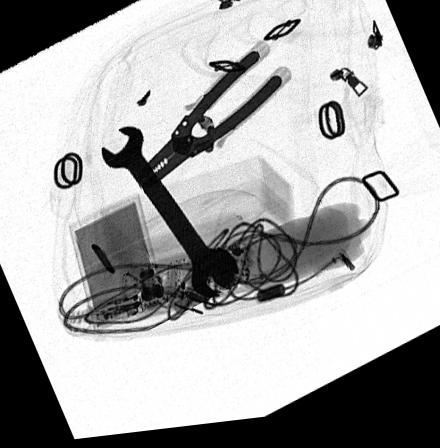Pliers: (135, 56, 281, 194)
Powerbank: (67, 196, 166, 334)
Wrench: (99, 129, 237, 301)
